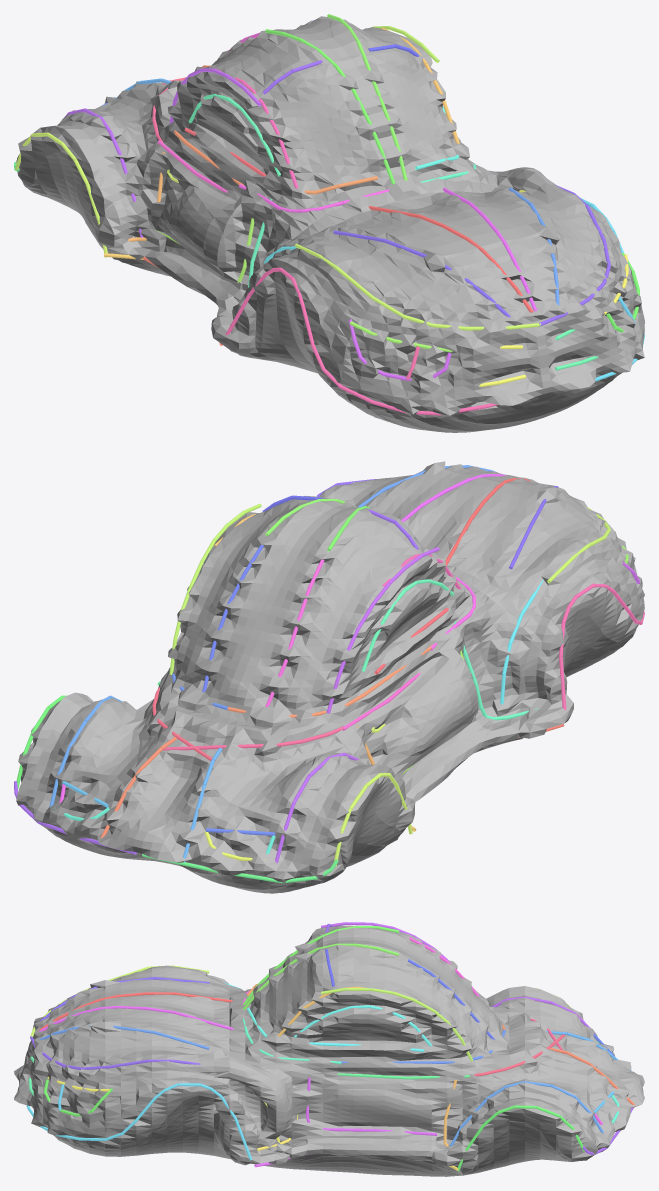
The model's file is author1_car.gltf.
3 views of the same model, one above another, from view 1: azimuth 30°, elevation 25°; view 2: azimuth 150°, elevation 25°; view 3: azimuth 270°, elevation 25° (orthographic). The views are drawn at different scales.
Size of the model in its own units: 0.4295 by 0.3514 by 0.8825.
